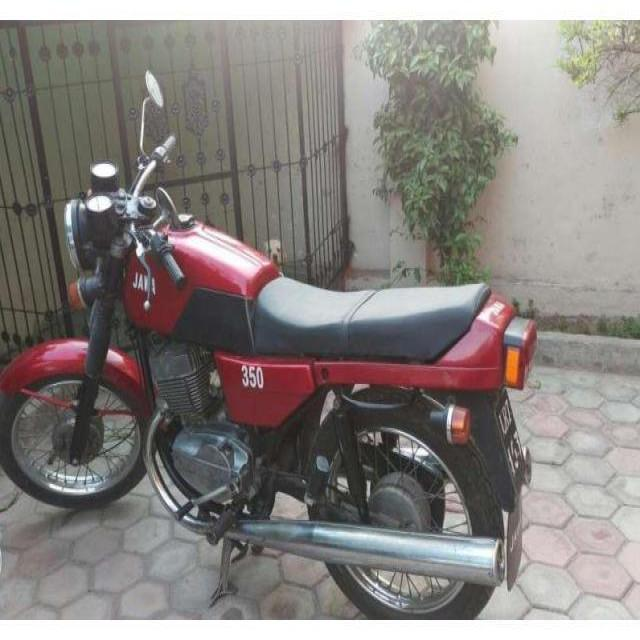motorcycle: (4, 64, 546, 620)
